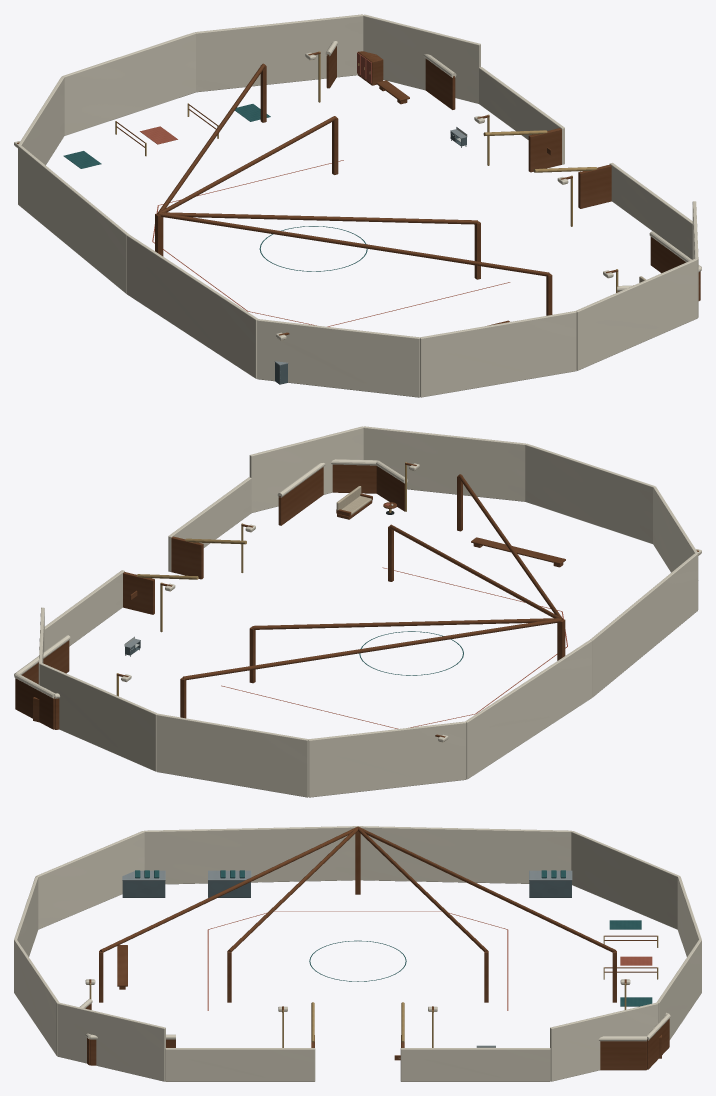
File: SOL_D07_directory_03_remaining_batch.glb
3 views of the same model, one above another, from view 1: azimuth 30°, elevation 25°; view 2: azimuth 150°, elevation 25°; view 3: azimuth 270°, elevation 25° (orthographic). The views are drawn at different scales.
Visible parts, largest first — view 1: D07_directory_03__outer_return_6, D07_directory_03__outer_return_7, D07_directory_03__outer_return_1, D07_directory_03__outer_return_2, D07_directory_03__outer_return_5, D07_directory_03__outer_return_8, D07_directory_03__outer_return_4, D07_directory_03__outer_return_0, D07_directory_03__mouth_fore, D07_directory_03__mouth_aft, D07_directory_03__outer_return_3, D07_directory_03__arena_fan_3 (+7 smaller); view 2: D07_directory_03__outer_return_3, D07_directory_03__outer_return_2, D07_directory_03__outer_return_8, D07_directory_03__outer_return_4, D07_directory_03__outer_return_7, D07_directory_03__outer_return_5, D07_directory_03__outer_return_1, D07_directory_03__outer_return_9, D07_directory_03__mouth_aft, D07_directory_03__mouth_fore, D07_directory_03__outer_return_6, D07_directory_03__arena_fan_0 (+11 smaller); view 3: D07_directory_03__outer_return_4, D07_directory_03__outer_return_5, D07_directory_03__outer_return_3, D07_directory_03__outer_return_9, D07_directory_03__outer_return_6, D07_directory_03__mouth_fore, D07_directory_03__mouth_aft, D07_directory_03__outer_return_0, D07_directory_03__outer_return_8, D07_directory_03__outer_return_1, D07_directory_03__entry_change_wall0, D07_directory_03__arena_fan_0 (+10 smaller).
Part boxes in pixels (x1,y1,x2,y2): D07_directory_03__outer_return_6: [257, 319, 419, 397]; D07_directory_03__outer_return_7: [420, 311, 576, 397]; D07_directory_03__outer_return_1: [195, 14, 363, 92]; D07_directory_03__outer_return_2: [62, 32, 196, 135]; D07_directory_03__outer_return_5: [127, 234, 257, 378]; D07_directory_03__outer_return_8: [576, 258, 697, 370]; D07_directory_03__outer_return_4: [18, 145, 128, 293]; D07_directory_03__outer_return_0: [363, 14, 480, 103]; D07_directory_03__mouth_fore: [609, 163, 692, 259]; D07_directory_03__mouth_aft: [479, 67, 564, 164]; D07_directory_03__outer_return_3: [18, 76, 64, 165]; D07_directory_03__arena_fan_3: [158, 212, 549, 276]; D07_directory_03__outer_return_3: [308, 721, 466, 797]; D07_directory_03__outer_return_2: [156, 713, 308, 797]; D07_directory_03__outer_return_8: [363, 426, 526, 501]; D07_directory_03__outer_return_4: [465, 640, 592, 779]; D07_directory_03__outer_return_7: [525, 443, 655, 543]; D07_directory_03__outer_return_5: [590, 553, 697, 696]; D07_directory_03__outer_return_1: [39, 663, 157, 771]; D07_directory_03__outer_return_9: [249, 426, 363, 512]; D07_directory_03__mouth_aft: [44, 570, 124, 651]; D07_directory_03__mouth_fore: [168, 477, 251, 571]; D07_directory_03__outer_return_6: [653, 486, 698, 609]; D07_directory_03__arena_fan_0: [183, 618, 561, 680]; D07_directory_03__outer_return_4: [358, 826, 571, 883]; D07_directory_03__outer_return_5: [144, 826, 357, 884]; D07_directory_03__outer_return_3: [571, 831, 679, 929]; D07_directory_03__outer_return_9: [57, 1002, 165, 1081]; D07_directory_03__outer_return_6: [36, 831, 144, 929]; D07_directory_03__mouth_fore: [165, 1048, 315, 1081]; D07_directory_03__mouth_aft: [400, 1048, 550, 1081]; D07_directory_03__outer_return_0: [550, 1002, 658, 1081]; D07_directory_03__outer_return_8: [14, 939, 59, 1056]; D07_directory_03__outer_return_1: [656, 939, 701, 1039]; D07_directory_03__entry_change_wall0: [600, 1041, 646, 1070]; D07_directory_03__arena_fan_0: [358, 826, 615, 952].
Bounding box in the file's own units: 44.86 × 6.88 × 64.28.
13 materials, 13 textured.
